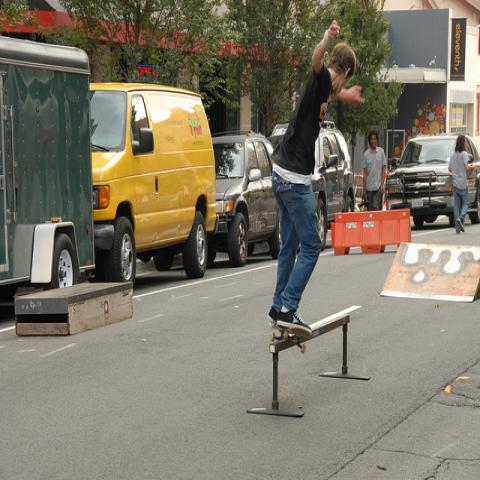car: (386, 133, 480, 229), (213, 132, 278, 266), (314, 130, 360, 228)
truck: (89, 80, 216, 286), (1, 40, 95, 311)
